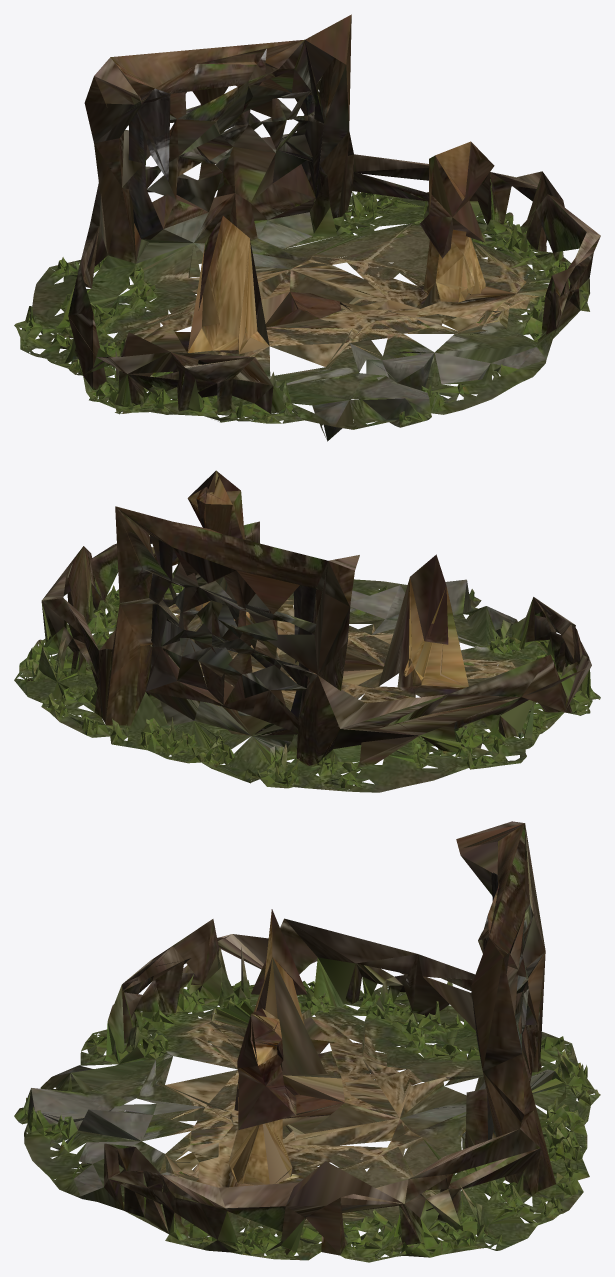
Rendered from training.glb.
The picture shows the model from 3 angles, top to bottom: view 1: azimuth 30°, elevation 25°; view 2: azimuth 150°, elevation 25°; view 3: azimuth 270°, elevation 25°; orthographic projection. The views are drawn at different scales.
Visible parts, largest first — view 1: training; view 2: training; view 3: training.
Boxes of the visible parts, x1,y1,x2,y2 form: training: (14, 14, 600, 441); training: (14, 470, 600, 792); training: (14, 821, 600, 1262).
Size of the model in its own units: 1.59 by 0.7095 by 1.41.
1 material, 1 textured.
